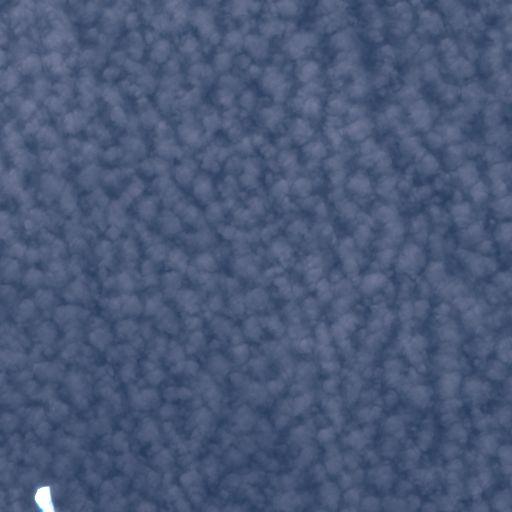Iceberg: (35, 486, 54, 511)
